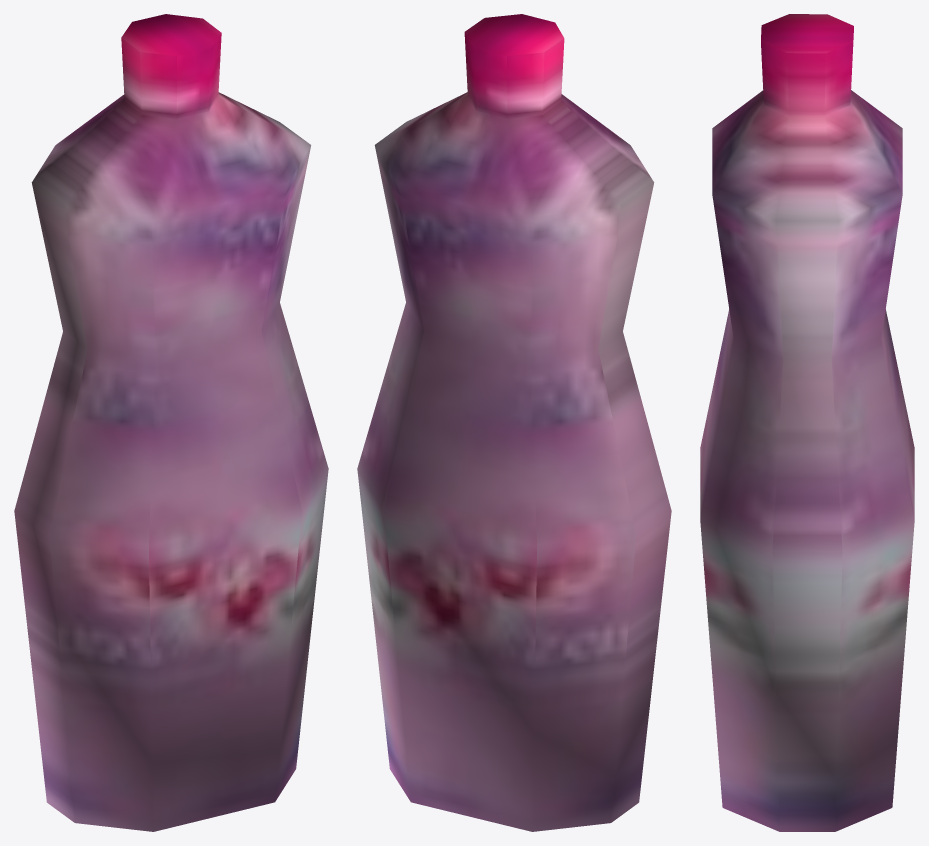
Rendered from Softener_02-col.glb.
3 views of the same model, side by side, from view 1: azimuth 30°, elevation 25°; view 2: azimuth 150°, elevation 25°; view 3: azimuth 270°, elevation 25° (orthographic).
Parts seen in each view (by area): view 1: Softener_02-col; view 2: Softener_02-col; view 3: Softener_02-col.
Boxes of the visible parts, left/top/right/bottom form: Softener_02-col: left=14, top=14, right=328, bottom=831; Softener_02-col: left=357, top=14, right=671, bottom=831; Softener_02-col: left=700, top=14, right=914, bottom=831.
Bounding box in the file's own units: 0.094 × 0.2415 × 0.063.
Materials: 1 (1 with a texture image).
